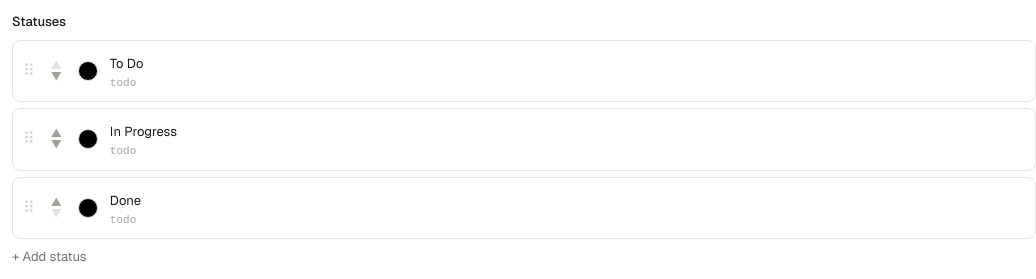
ProjectStatusManager reordering (T06) › rolls back to the prior order and shows an error toast when the reorder PATCH is rejected
The image size is (1036, 279).
Expected: the 1st field showing "To Do" is shown, [106,54,976,73]
Click the button named "Move down".
click(56, 76)  # box [47,71,66,82]
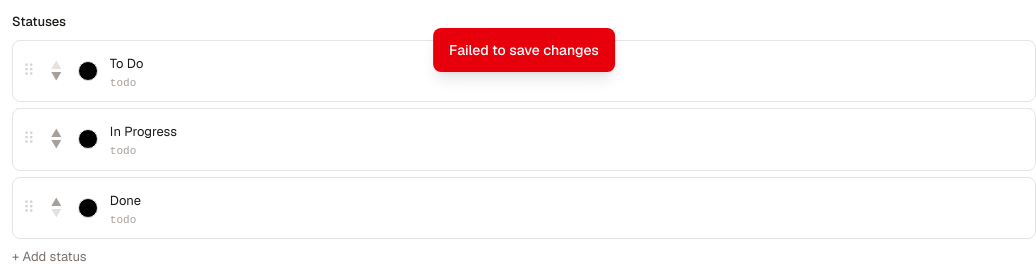
Result: the text "Failed to save changes" is shown at [433,28,615,72]
